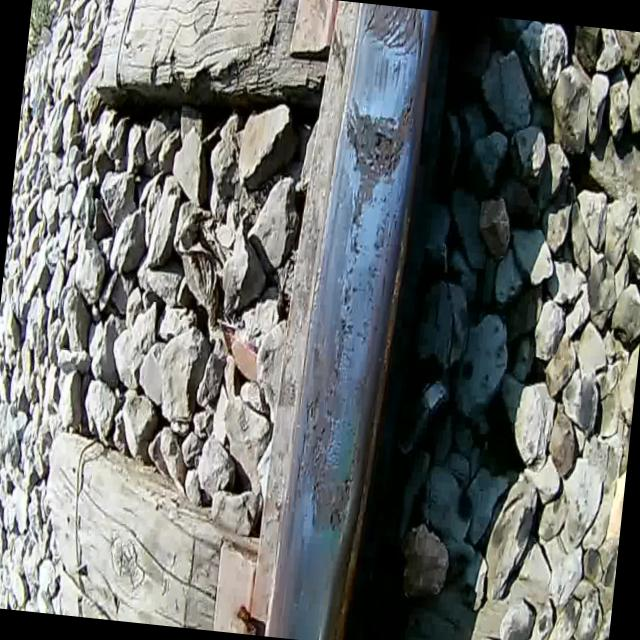Cracks: (290, 382, 332, 496), (356, 2, 429, 62), (302, 472, 325, 532), (383, 52, 408, 91)
Spallings: (346, 88, 420, 182), (326, 464, 356, 534)
Squats: (284, 332, 374, 539), (332, 84, 422, 237), (348, 2, 434, 92), (324, 232, 388, 341)
